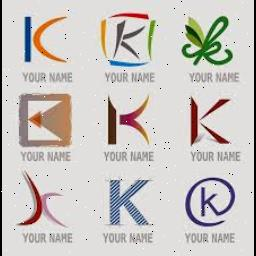k: (14, 165, 72, 231), (20, 10, 74, 68), (103, 94, 157, 150), (102, 176, 156, 232), (187, 14, 237, 68), (186, 92, 234, 146), (108, 16, 148, 62), (200, 182, 224, 220)
